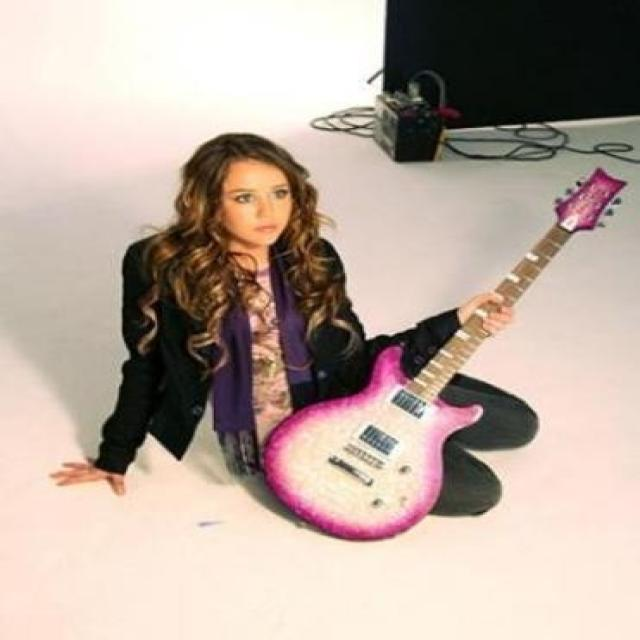guitar: (254, 163, 630, 546)
